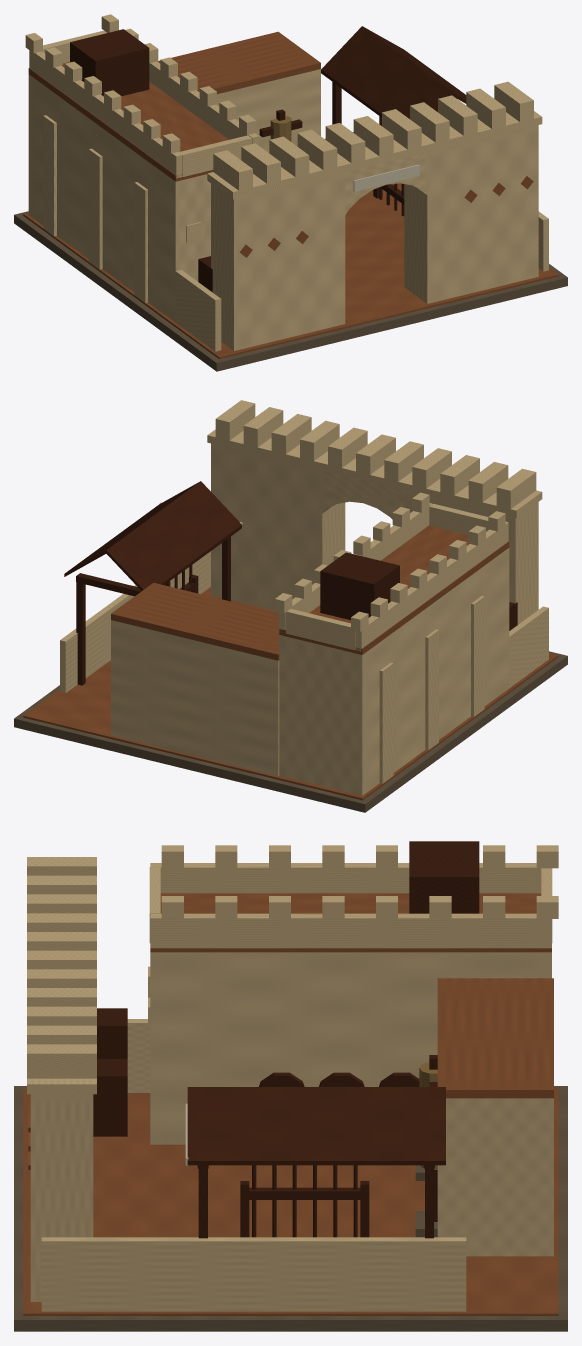
File: Berber_Barracks_Age4.fbx
3 views of the same model, one above another, from view 1: azimuth 30°, elevation 25°; view 2: azimuth 150°, elevation 25°; view 3: azimuth 270°, elevation 25° (orthographic). The views are drawn at different scales.
Visible parts, largest first — view 1: entry_west_pier, west_armoury, entry_east_pier, court_floor, foundation, pitched_training_shelter, rear_roof, rear_store, west_roof, armoury_roof_logistics, entry_cap, west_parapet (+21 smaller); view 2: west_armoury, rear_store, entry_east_pier, pitched_training_shelter, foundation, rear_roof, court_floor, armoury_roof_logistics, entry_cap, west_roof, entry_west_pier, court_side_wall.001 (+23 smaller); view 3: west_armoury, court_floor, court_side_wall.001, pitched_training_shelter, rear_store, rear_roof, foundation, west_parapet.001, entry_east_pier, west_parapet, west_roof, armoury_roof_logistics (+20 smaller).
Part boxes in pixels (<box>): entry_west_pier: <box>211,172,345,350</box>; west_armoury: <box>28,74,210,322</box>; entry_east_pier: <box>404,125,538,303</box>; court_floor: <box>23,183,558,359</box>; foundation: <box>14,132,567,371</box>; pitched_training_shelter: <box>321,26,466,118</box>; rear_roof: <box>157,31,320,94</box>; rear_store: <box>216,69,320,152</box>; west_roof: <box>28,62,228,181</box>; armoury_roof_logistics: <box>70,29,149,96</box>; entry_cap: <box>207,111,542,199</box>; west_parapet: <box>29,50,182,178</box>; west_armoury: <box>279,548,509,795</box>; rear_store: <box>111,620,279,776</box>; entry_east_pier: <box>211,443,345,610</box>; pitched_training_shelter: <box>64,481,242,590</box>; foundation: <box>14,651,567,812</box>; rear_roof: <box>111,582,279,660</box>; court_floor: <box>23,587,558,800</box>; armoury_roof_logistics: <box>320,552,399,620</box>; entry_cap: <box>207,429,542,517</box>; west_roof: <box>279,525,509,654</box>; entry_west_pier: <box>404,490,538,624</box>; court_side_wall.001: <box>60,551,210,692</box>; west_armoury: <box>150,952,551,1144</box>; court_floor: <box>23,1087,558,1315</box>; court_side_wall.001: <box>41,1237,466,1311</box>; pitched_training_shelter: <box>187,1087,445,1165</box>; rear_store: <box>437,1098,553,1256</box>; rear_roof: <box>437,978,553,1098</box>; foundation: <box>14,1086,567,1331</box>; west_parapet.001: <box>150,913,551,948</box>; entry_east_pier: <box>30,1094,93,1301</box>; west_parapet: <box>150,863,541,893</box>; west_roof: <box>150,893,551,952</box>; armoury_roof_logistics: <box>409,841,479,913</box>.
Bounding box in the file's own units: 600 × 325 × 600.
6 materials, 6 textured.
